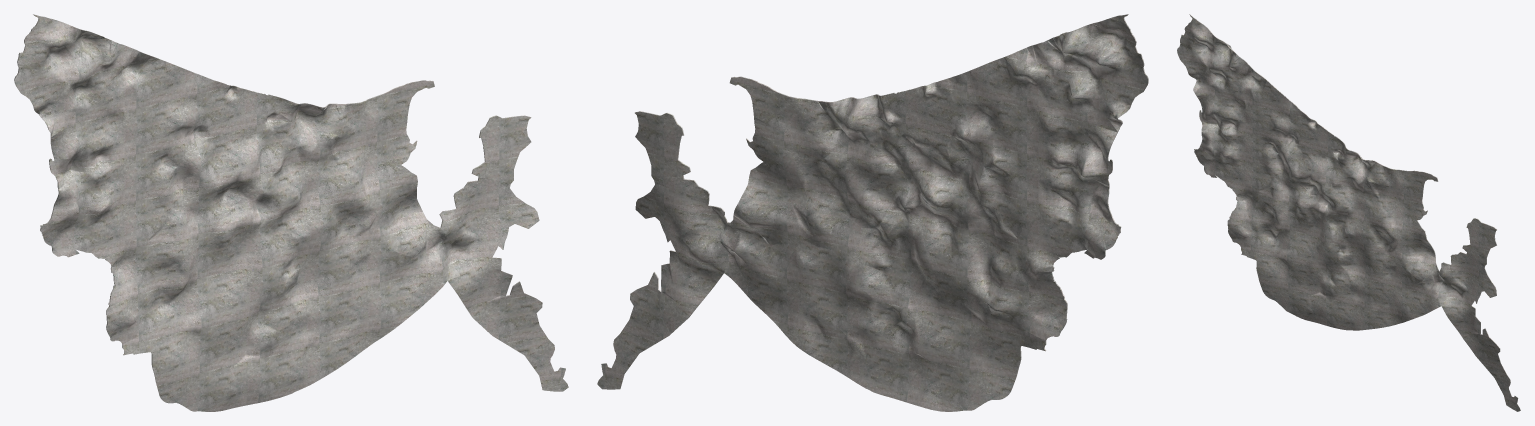
3 views of the same model, side by side, from view 1: azimuth 30°, elevation 25°; view 2: azimuth 150°, elevation 25°; view 3: azimuth 330°, elevation 25° (orthographic). The views are drawn at different scales.
Bounding box in the file's own units: 24213 × 21145 × 1380.
3 materials, 3 textured.
